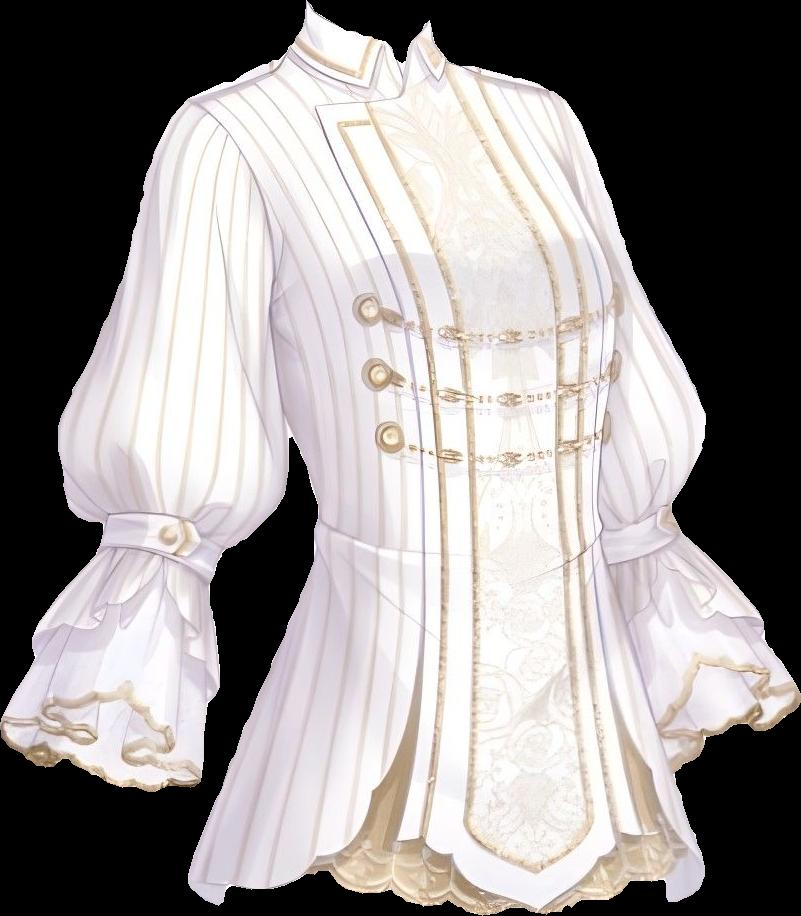Bodice: (186, 2, 704, 913)
Neckline: (306, 0, 437, 71), (285, 52, 451, 100)
Sleeve: (0, 91, 314, 791)
Sleeveline: (189, 98, 279, 290), (98, 508, 232, 549), (94, 540, 214, 577)
Waistline: (312, 63, 653, 913), (192, 691, 426, 890), (189, 859, 701, 915), (30, 559, 224, 694), (614, 700, 701, 859)
